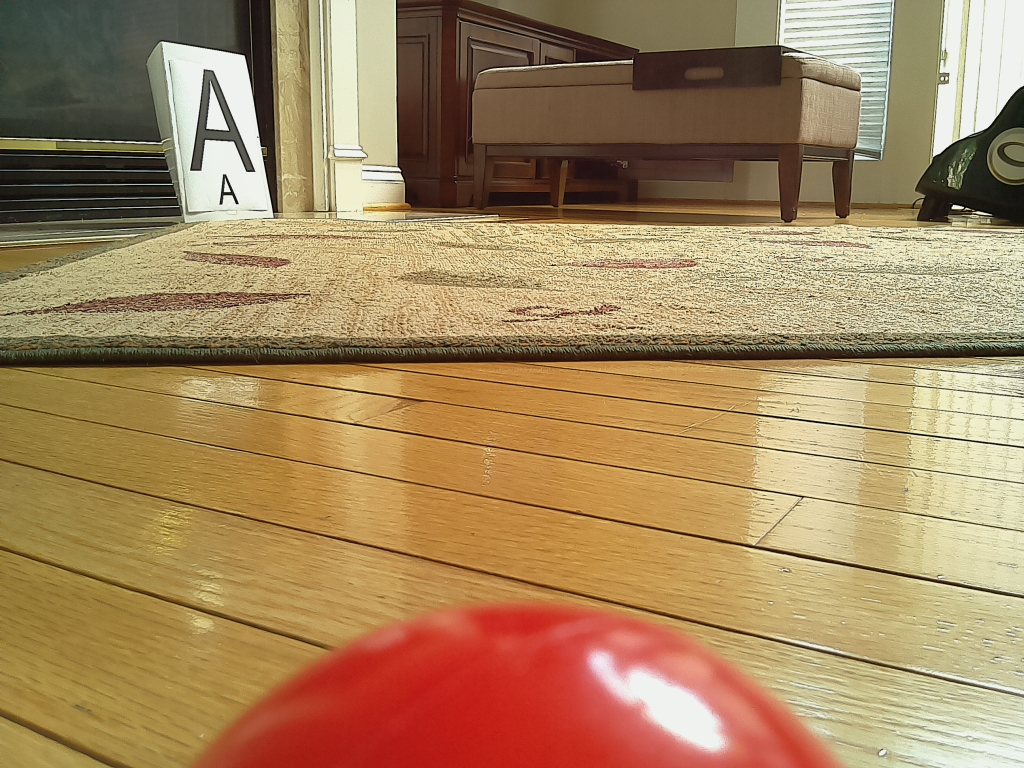letter: (187, 69, 263, 173)
